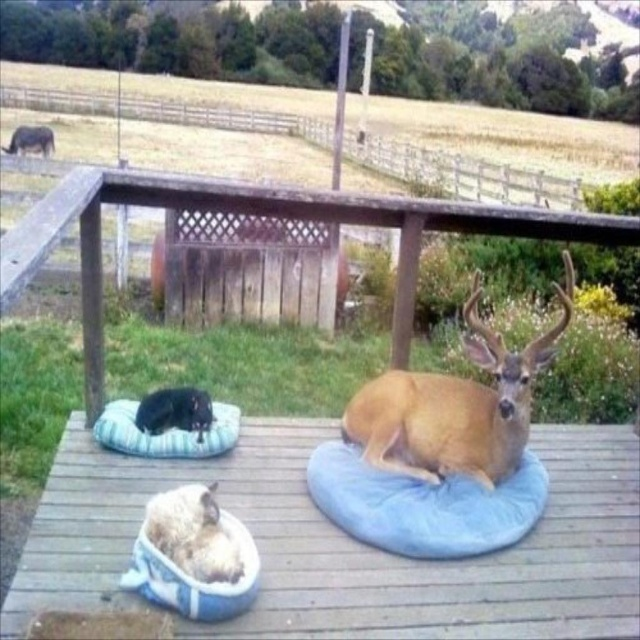Deer: (342, 246, 571, 486)
